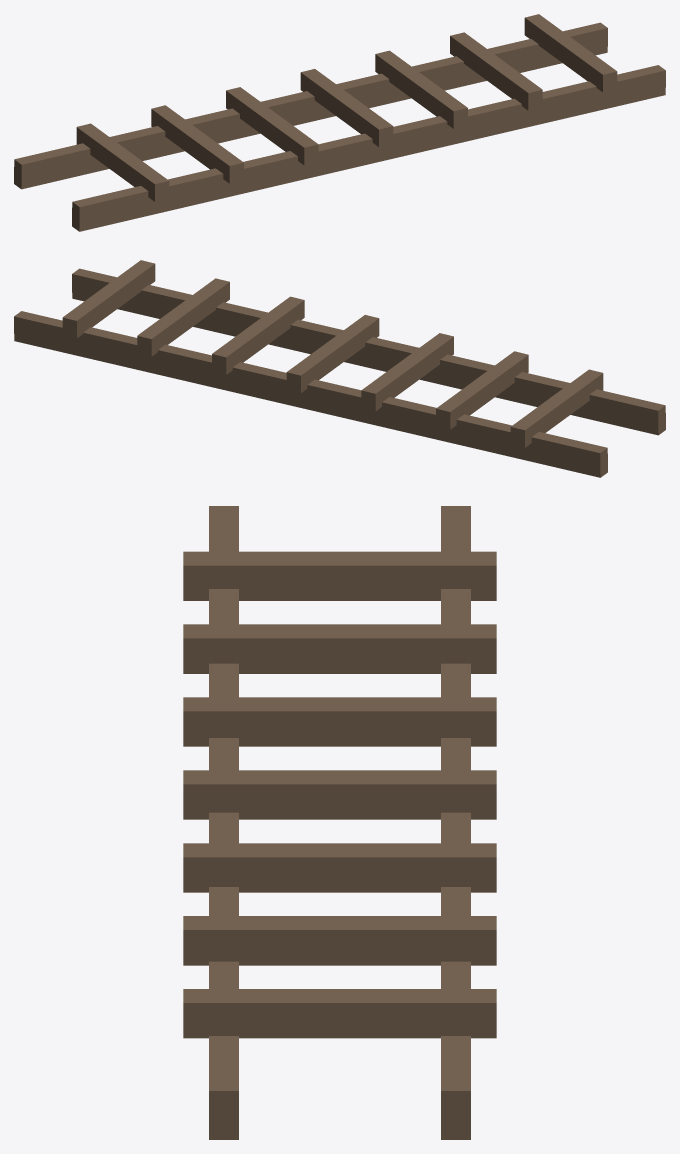
The model's file is Latter.fbx.
3 views of the same model, one above another, from view 1: azimuth 30°, elevation 25°; view 2: azimuth 150°, elevation 25°; view 3: azimuth 270°, elevation 25° (orthographic). The views are drawn at different scales.
Visible parts, largest first — view 1: Ladder; view 2: Ladder; view 3: Ladder.
Part boxes in pixels (x1,y1,x2,y2): Ladder: (14,14,665,231); Ladder: (14,260,665,477); Ladder: (183,506,496,1139).
Bounding box in the file's own units: 128 × 8.7 × 29.66.
